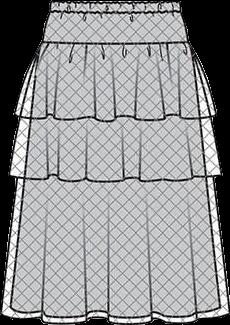Hemline: (0, 311, 229, 324), (8, 171, 221, 183), (12, 111, 217, 123)
Waistline: (41, 39, 187, 46), (49, 8, 180, 15), (50, 0, 178, 5)
